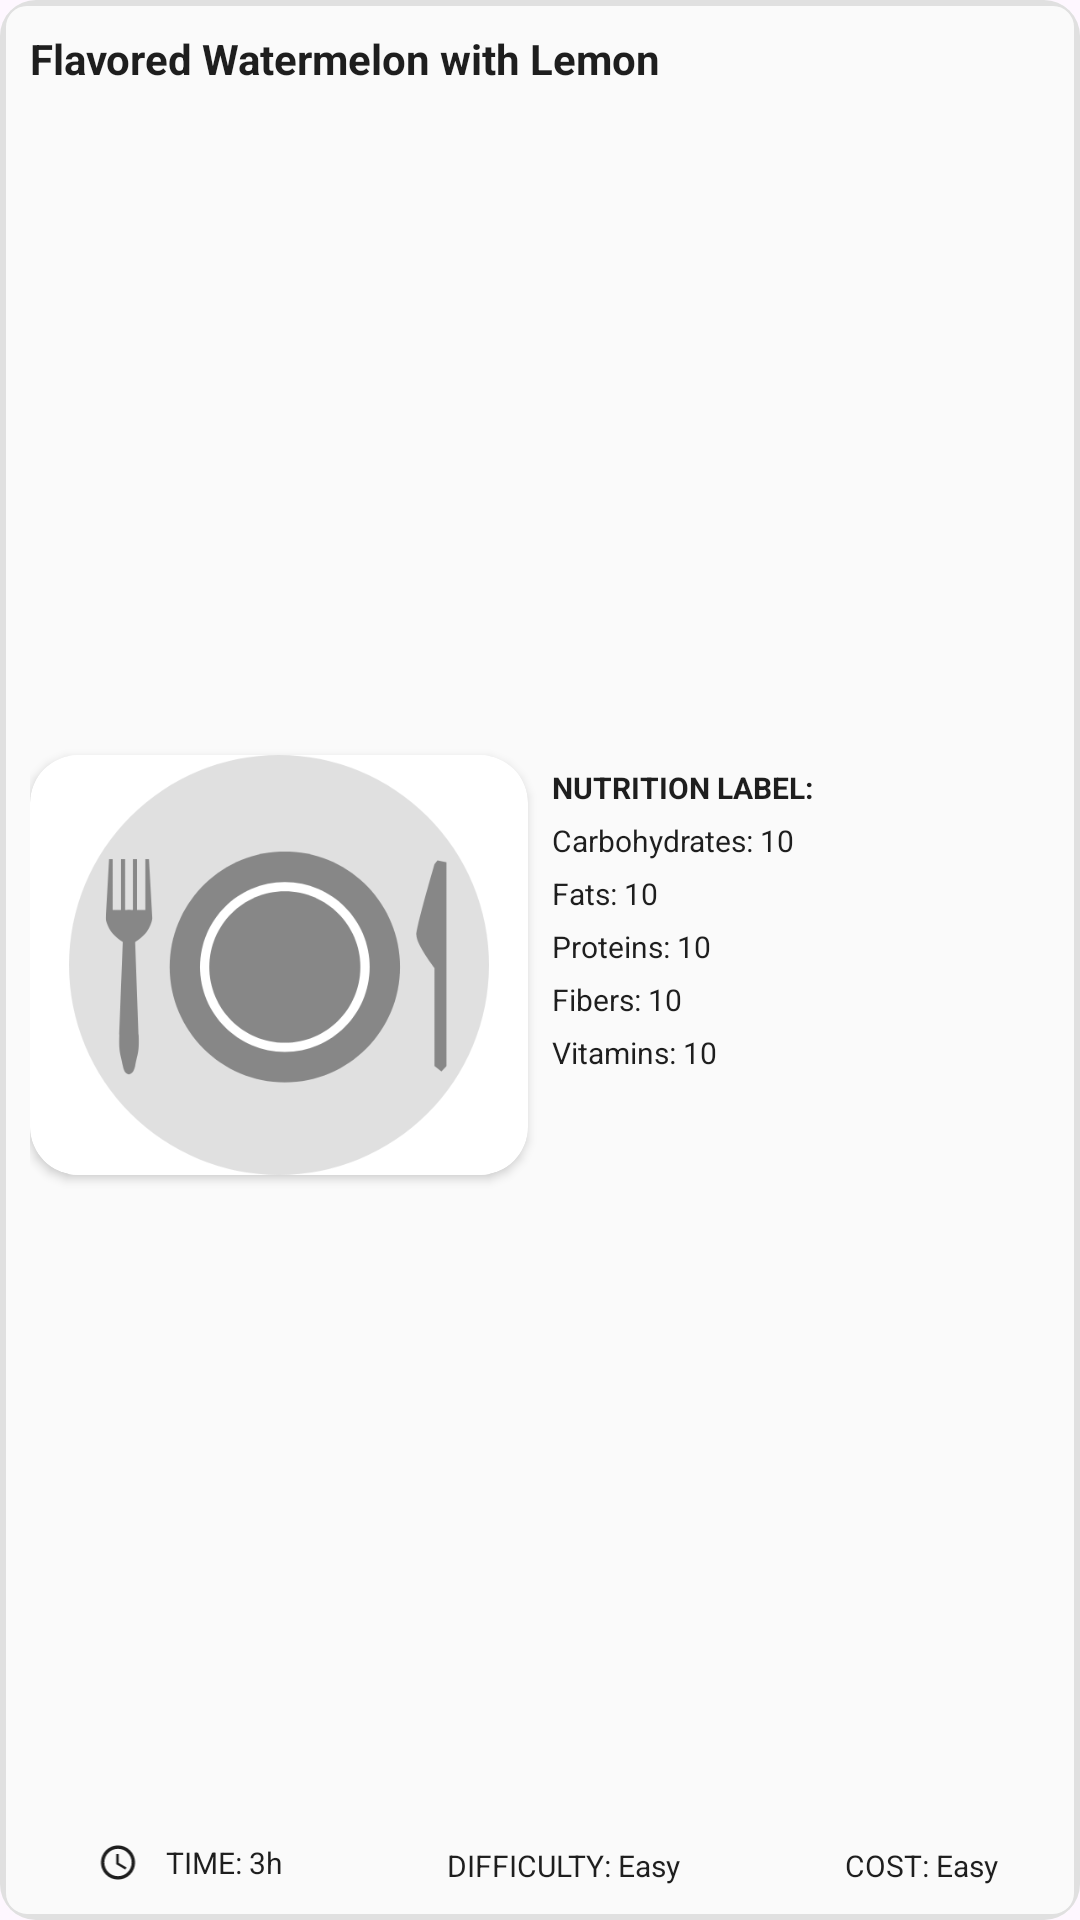

Icons on this 1080px×1920px Android screen, each with its box as box=[x1, y1, x2, y2]:
access time: box=[100, 1845, 136, 1880]
